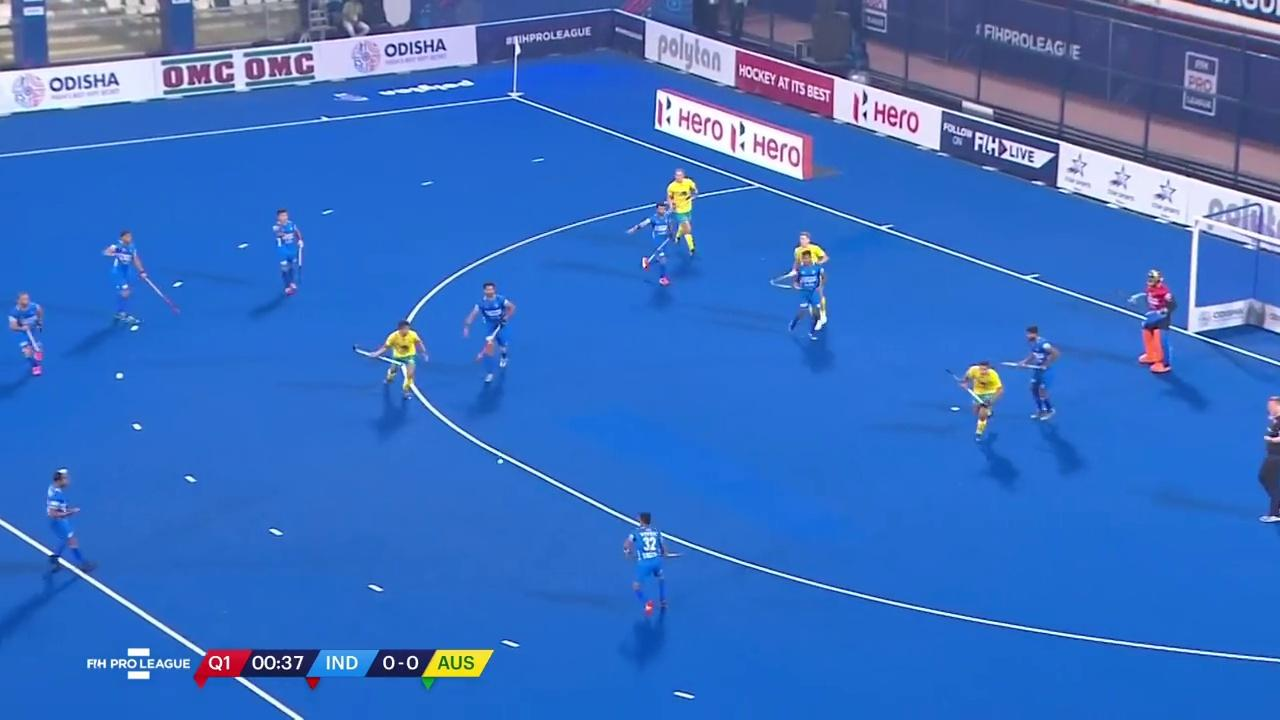ball: (491, 456, 505, 466)
